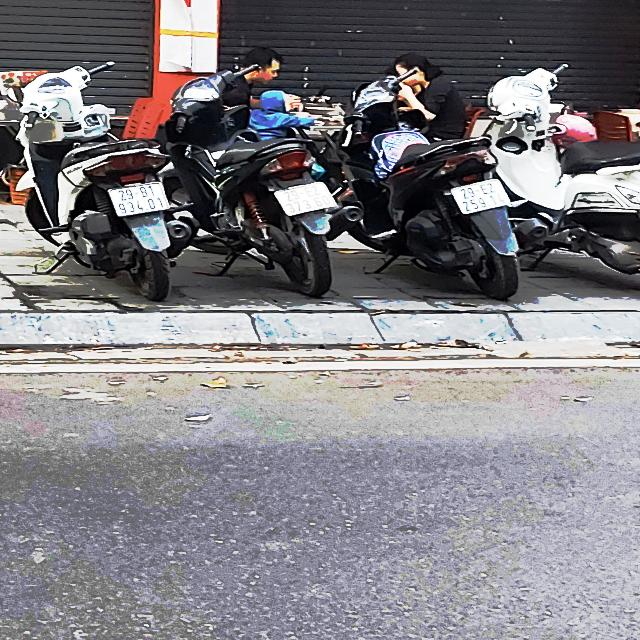license_plate: (102, 179, 176, 220), (446, 176, 515, 218), (271, 180, 342, 219)
